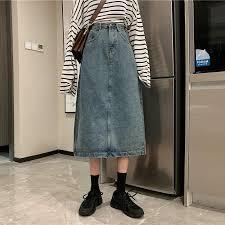skirt: (75, 23, 147, 160)
